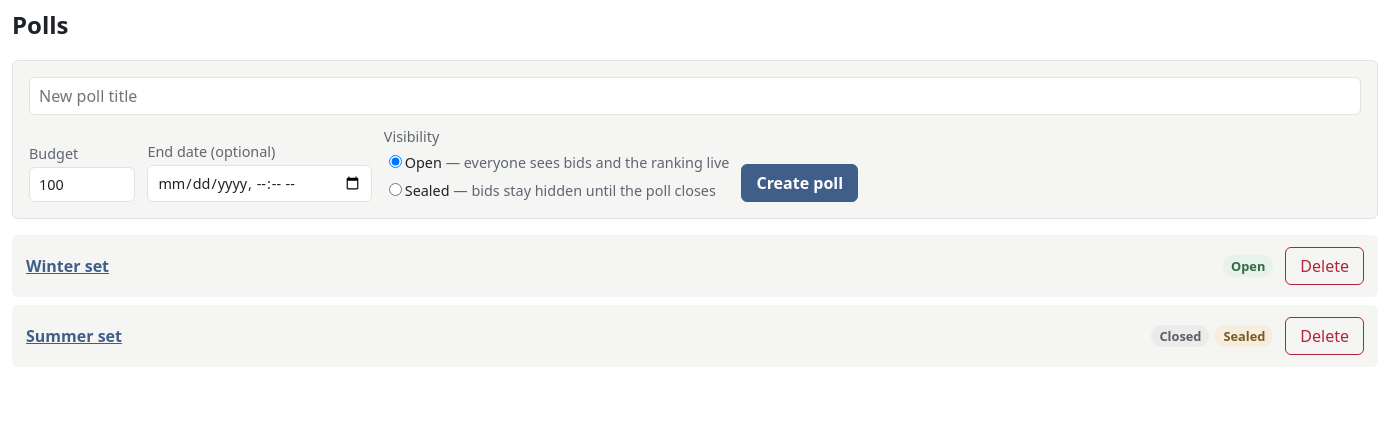
it: PollsList › rejects an end date in the past
The image size is (1378, 422).
Type "Fall set" into the field labelled "New poll title".
click(695, 96); type("Fall set")  # box [29, 77, 1361, 115]
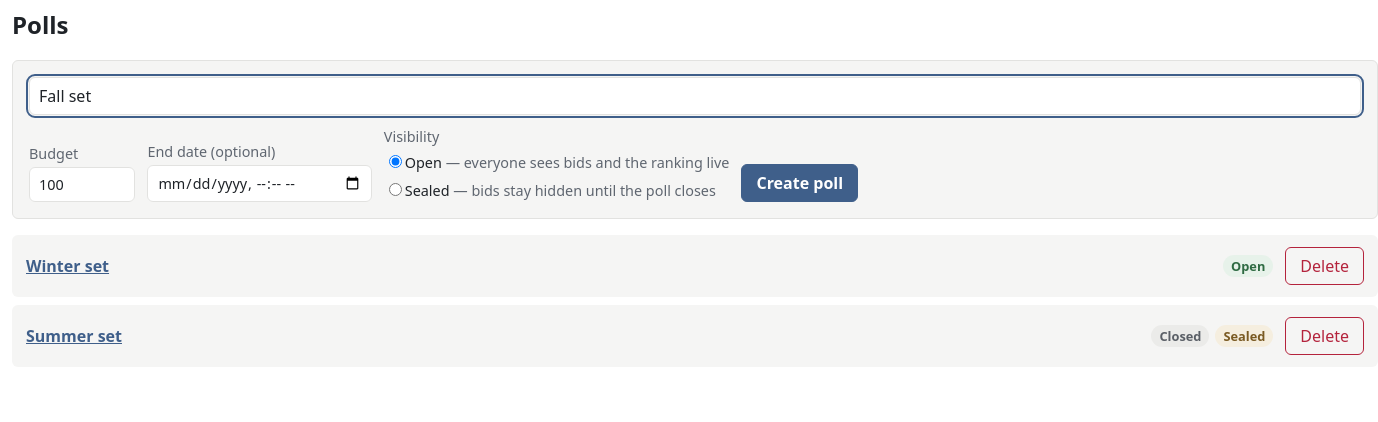
Type "2000-01-01T10:00" into the field labelled "End date (optional)".
click(260, 183); type("2000-01-01T10:00")  # box [147, 165, 372, 202]
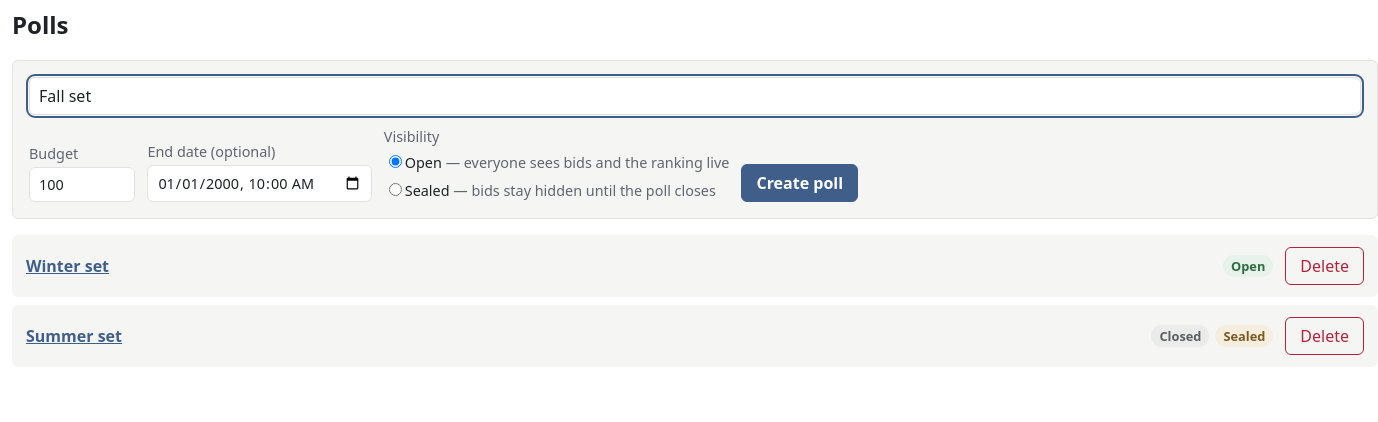
Click the button "Create poll".
click(800, 183)  # box [741, 164, 858, 202]
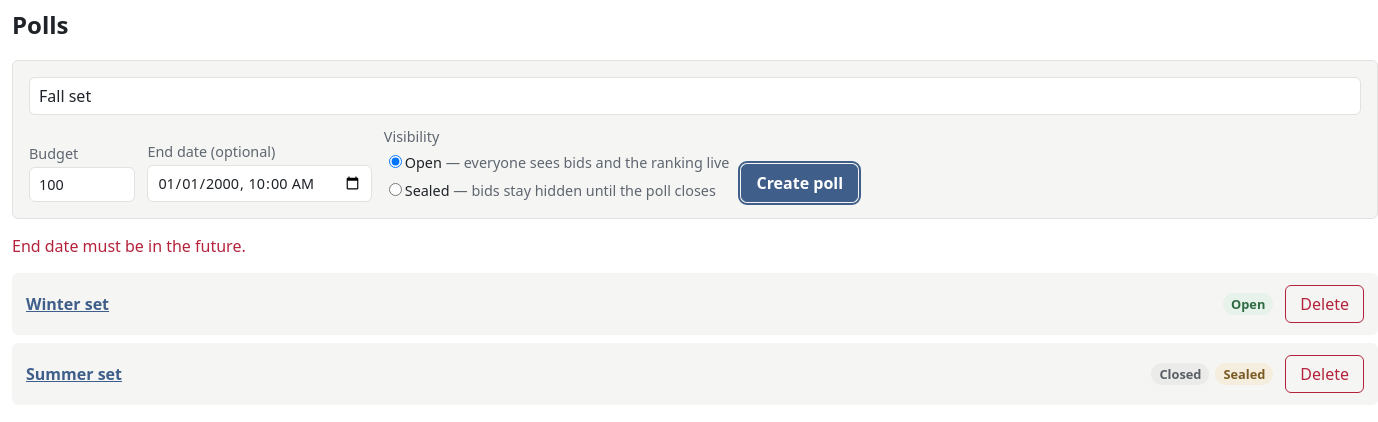
Check: the message reads "End date must be in the future.", box [12, 235, 246, 257]
